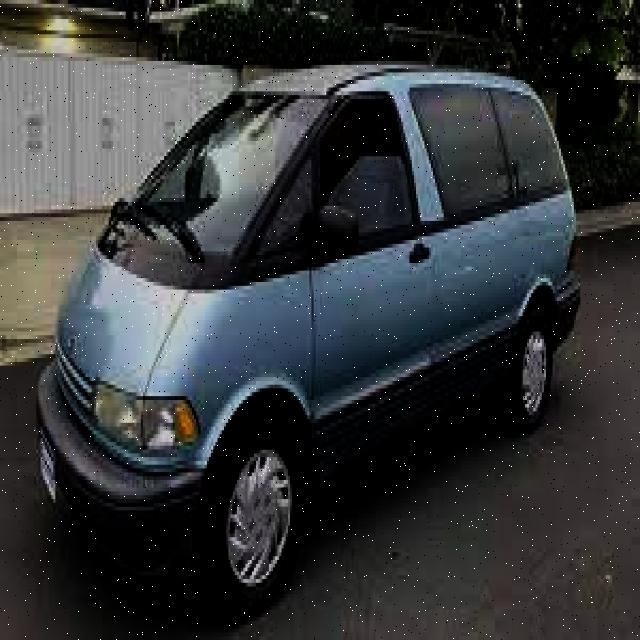Van: (26, 61, 578, 617)
